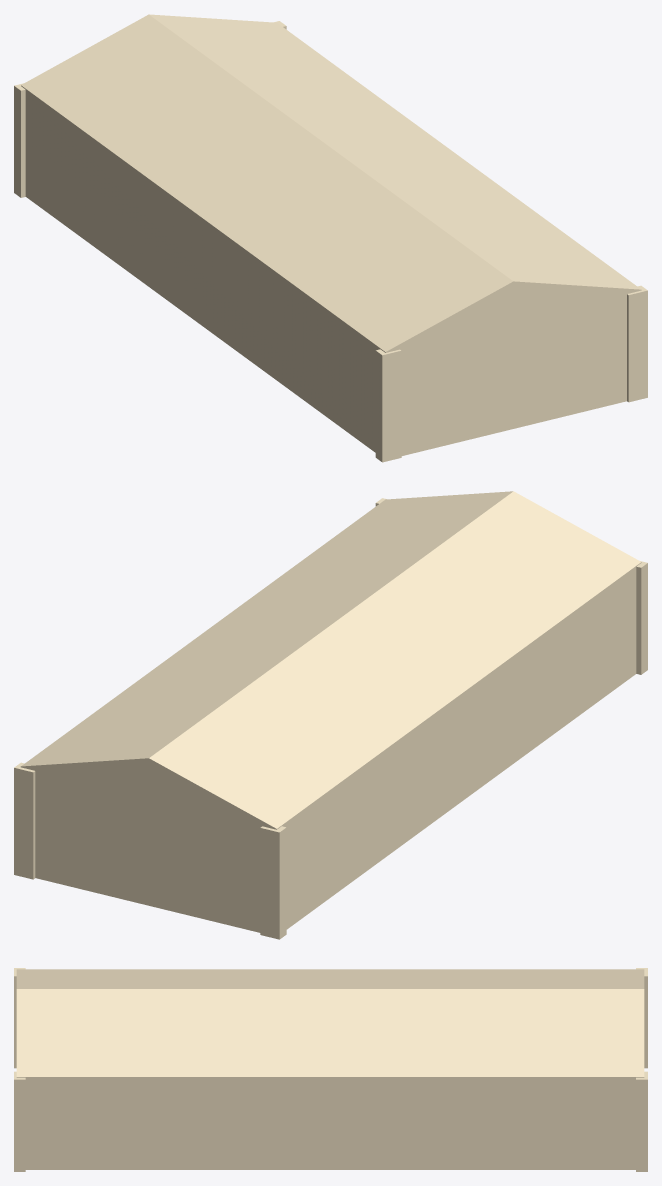
The model's file is inver.gltf.
The picture shows the model from 3 angles, top to bottom: view 1: azimuth 30°, elevation 25°; view 2: azimuth 150°, elevation 25°; view 3: azimuth 270°, elevation 25°; orthographic projection. The views are drawn at different scales.
Visible parts, largest first — view 1: Cube; view 2: Cube; view 3: Cube.
Boxes of the visible parts, x1,y1,x2,y2 form: Cube: (14, 14, 647, 462); Cube: (14, 491, 647, 939); Cube: (14, 968, 647, 1171).
Size of the model in its own units: 7.78 by 4.13 by 18.69.
